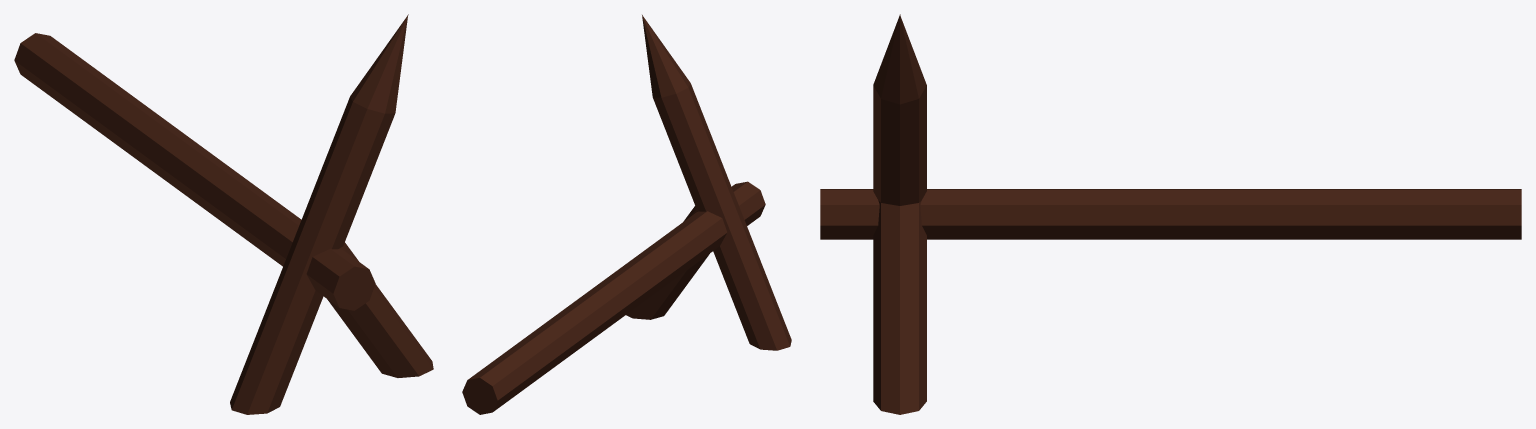
File: spike_barricade.glb
The picture shows the model from 3 angles, left to right: view 1: azimuth 30°, elevation 25°; view 2: azimuth 150°, elevation 25°; view 3: azimuth 270°, elevation 25°; orthographic projection. The views are drawn at different scales.
Parts seen in each view (by area): view 1: Cylinder.002, Cylinder.003; view 2: Cylinder.002, Cylinder.003; view 3: Cylinder.003, Cylinder.002.
Boxes of the visible parts, x1,y1,x2,y2 form: Cylinder.002: (230,14,433,414); Cylinder.003: (14,33,375,310); Cylinder.002: (626,15,791,350); Cylinder.003: (462,181,765,414); Cylinder.003: (820,189,1521,239); Cylinder.002: (873,14,926,414).
Bounding box in the file's own units: 1.14 × 1.91 × 3.13.
